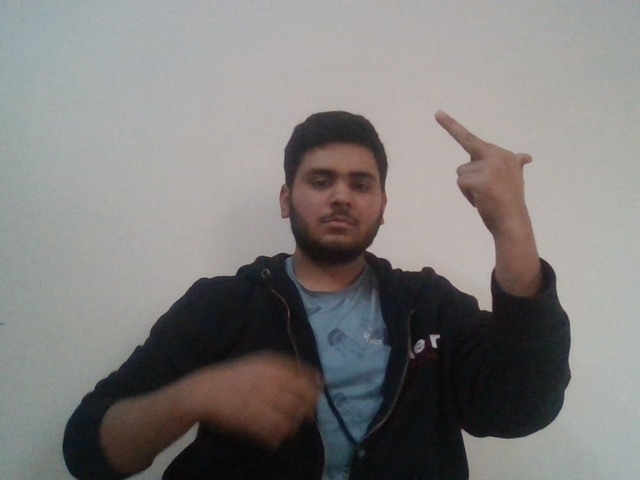Hello: (436, 101, 553, 217)
